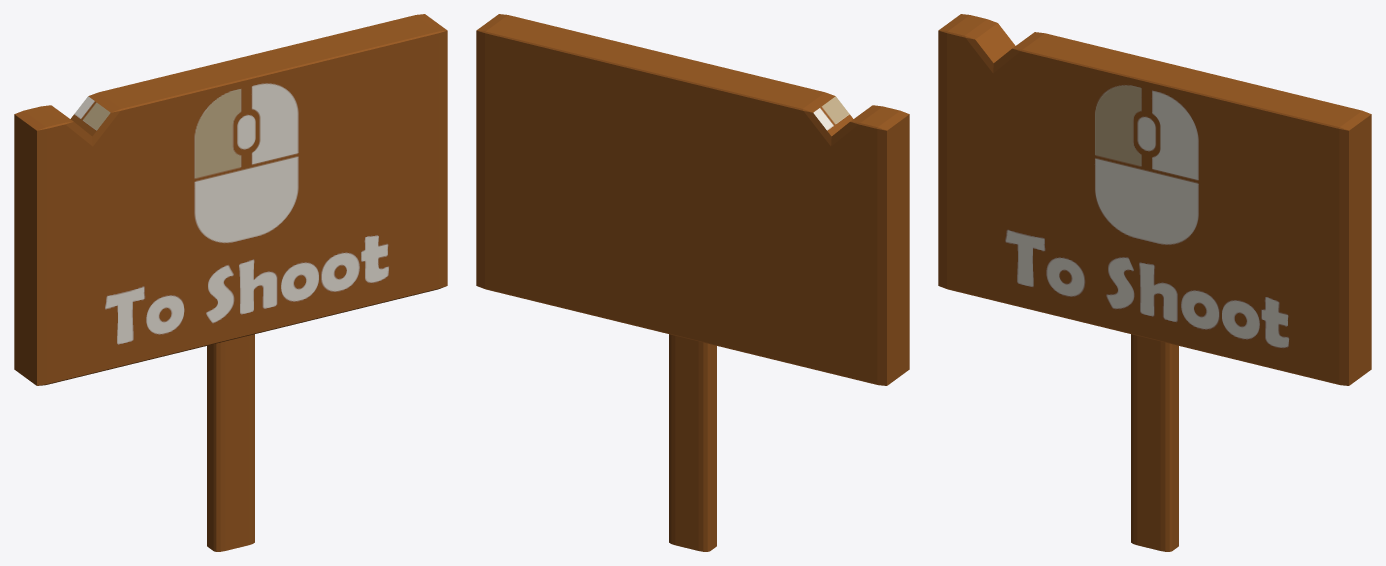
The model's file is ShootSign.fbx.
3 views of the same model, side by side, from view 1: azimuth 30°, elevation 25°; view 2: azimuth 150°, elevation 25°; view 3: azimuth 330°, elevation 25° (orthographic).
Parts seen in each view (by area): view 1: ShootSign; view 2: ShootSign; view 3: ShootSign.
Part boxes in pixels (x1,y1,x2,y2): ShootSign: (14,14,447,551); ShootSign: (476,14,909,551); ShootSign: (938,14,1371,551).
Bounding box in the file's own units: 100 × 110 × 10.
